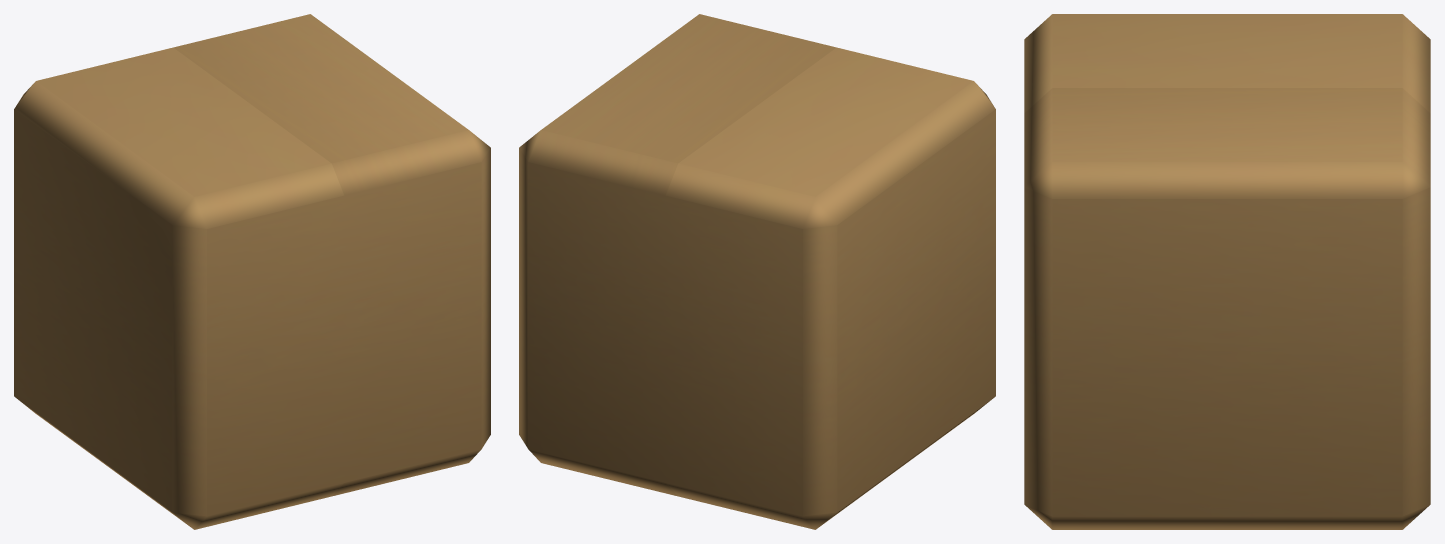
Rendered from box_cardboard_square_closed.fbx.
3 renders of one model, left to right at view 1: azimuth 30°, elevation 25°; view 2: azimuth 150°, elevation 25°; view 3: azimuth 270°, elevation 25°, orthographic. The views are drawn at different scales.
Visible parts, largest first — view 1: box_cardboard_square_closed; view 2: box_cardboard_square_closed; view 3: box_cardboard_square_closed.
Part boxes in pixels (x1,y1,x2,y2): box_cardboard_square_closed: [14, 14, 490, 529]; box_cardboard_square_closed: [519, 14, 995, 529]; box_cardboard_square_closed: [1024, 14, 1430, 529].
Size of the model in its own units: 53.69 by 53.69 by 53.69.
